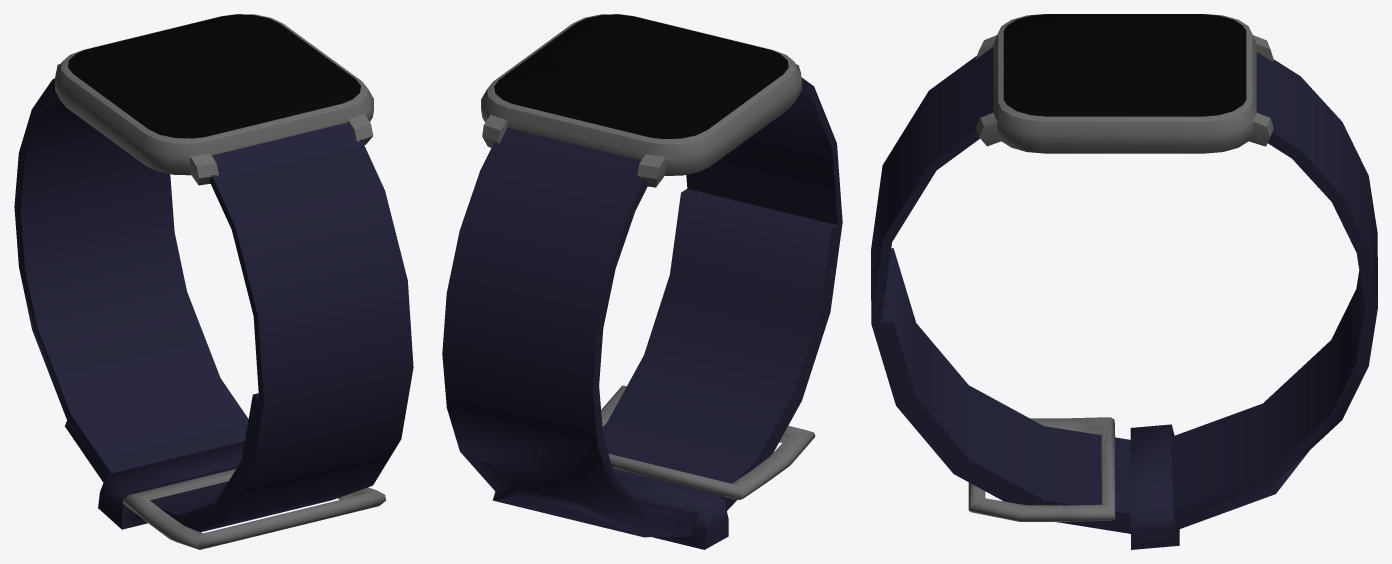
Rendered from Model_Watch.fbx.
3 renders of one model, left to right at view 1: azimuth 30°, elevation 25°; view 2: azimuth 150°, elevation 25°; view 3: azimuth 270°, elevation 25°, orthographic.
Parts seen in each view (by area): view 1: Model_Watch_Belt, Model_Watch; view 2: Model_Watch_Belt, Model_Watch; view 3: Model_Watch_Belt, Model_Watch.
Part boxes in pixels (bbox=[...]): Model_Watch_Belt: bbox=[14, 78, 413, 549]; Model_Watch: bbox=[55, 14, 373, 185]; Model_Watch_Belt: bbox=[442, 77, 842, 549]; Model_Watch: bbox=[481, 14, 801, 187]; Model_Watch_Belt: bbox=[871, 47, 1377, 549]; Model_Watch: bbox=[975, 14, 1273, 153].
Bounding box in the file's own units: 41.68 × 76.49 × 79.71.
